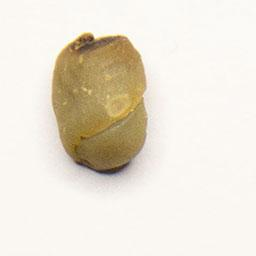defect: (48, 27, 153, 178)
